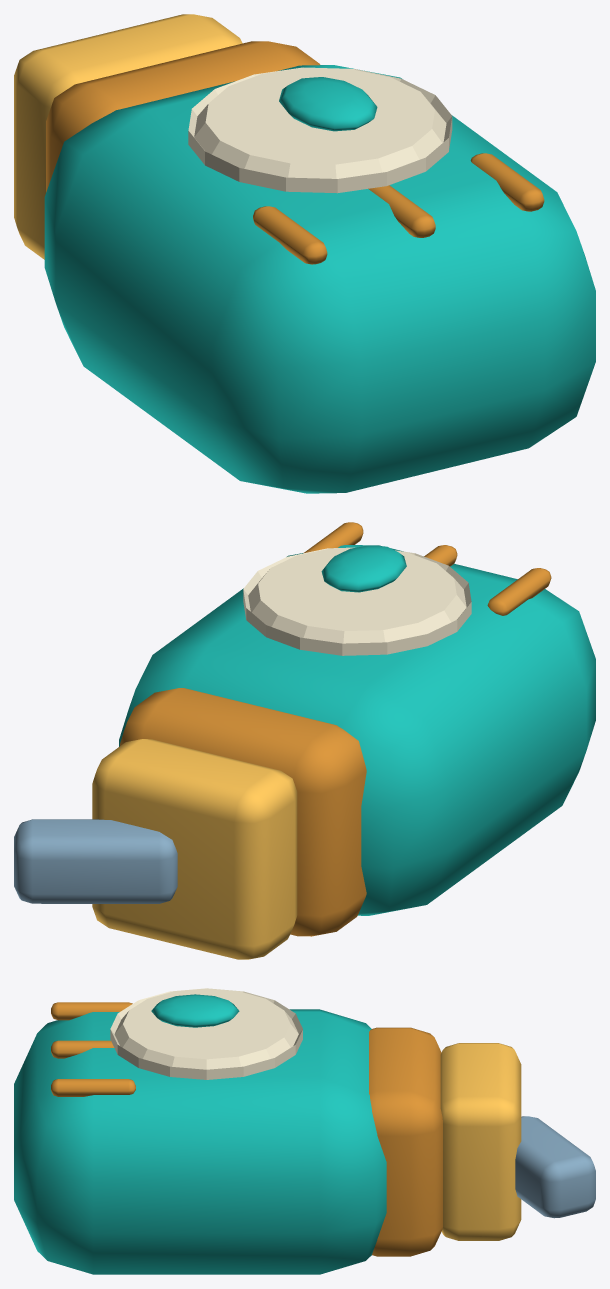
File: Power_Solvent.fbx
3 views of the same model, one above another, from view 1: azimuth 30°, elevation 25°; view 2: azimuth 150°, elevation 25°; view 3: azimuth 270°, elevation 25° (orthographic). The views are drawn at different scales.
Parts seen in each view (by area): view 1: Cleaner_cartridge, Cleaner_medallion, Cleaner_cap, Cleaner_shoulder, Cleaner_droplet, Grip_rib, Grip_rib.002, Grip_rib.001; view 2: Cleaner_cartridge, Cleaner_cap, Cleaner_shoulder, Cleaner_medallion, Cleaner_spout, Cleaner_droplet, Grip_rib, Grip_rib.002; view 3: Cleaner_cartridge, Cleaner_cap, Cleaner_shoulder, Cleaner_medallion, Cleaner_spout, Cleaner_droplet, Grip_rib.002, Grip_rib, Grip_rib.001.
Part boxes in pixels (left/top/right/bottom): Cleaner_cartridge: left=44, top=65, right=595, bottom=493; Cleaner_medallion: left=188, top=67, right=452, bottom=193; Cleaner_cap: left=14, top=14, right=242, bottom=259; Cleaner_shoulder: left=46, top=41, right=320, bottom=192; Cleaner_droplet: left=279, top=77, right=377, bottom=131; Grip_rib: left=253, top=206, right=327, bottom=264; Grip_rib.002: left=470, top=153, right=544, bottom=211; Grip_rib.001: left=368, top=185, right=435, bottom=237; Cleaner_cartridge: left=119, top=545, right=595, bottom=915; Cleaner_cap: left=92, top=739, right=297, bottom=959; Cleaner_shoulder: left=120, top=688, right=366, bottom=936; Cleaner_medallion: left=243, top=547, right=471, bottom=655; Cleaner_spout: left=14, top=819, right=177, bottom=903; Cleaner_droplet: left=321, top=545, right=406, bottom=592; Grip_rib: left=487, top=568, right=551, bottom=615; Grip_rib.002: left=303, top=522, right=363, bottom=553; Cleaner_cartridge: left=14, top=1009, right=386, bottom=1274; Cleaner_cap: left=440, top=1043, right=521, bottom=1240; Cleaner_shoulder: left=369, top=1027, right=442, bottom=1256; Cleaner_medallion: left=110, top=988, right=302, bottom=1079; Cleaner_spout: left=515, top=1116, right=595, bottom=1218; Cleaner_droplet: left=151, top=994, right=239, bottom=1027; Grip_rib.002: left=51, top=1079, right=135, bottom=1096; Grip_rib: left=51, top=1002, right=132, bottom=1020; Grip_rib.001: left=51, top=1040, right=114, bottom=1058.
Bounding box in the file's own units: 55 × 46.3 × 103.
